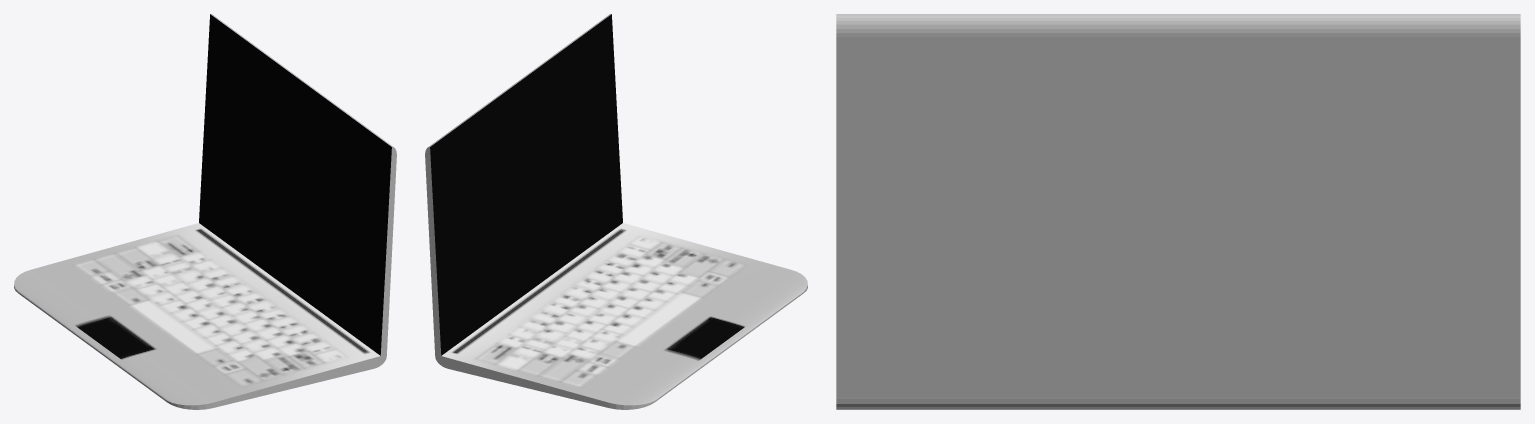
File: laptop.obj
3 renders of one model, left to right at view 1: azimuth 30°, elevation 25°; view 2: azimuth 150°, elevation 25°; view 3: azimuth 270°, elevation 25°, orthographic. The views are drawn at different scales.
Parts seen in each view (by area): view 1: Cube; view 2: Cube; view 3: Cube.
Part boxes in pixels (x1,y1,x2,y2): Cube: (14, 14, 396, 409); Cube: (425, 14, 807, 409); Cube: (836, 14, 1520, 409).
Bounding box in the file's own units: 7.08 × 6.89 × 10.45.
